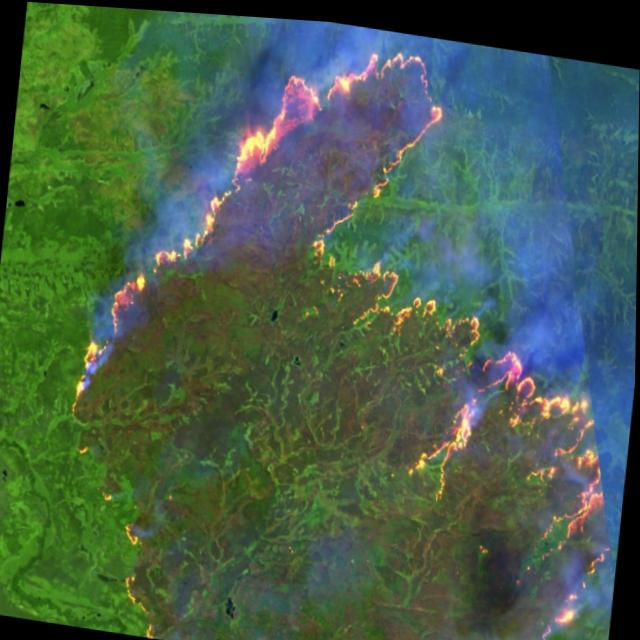fire: (46, 3, 640, 640)
